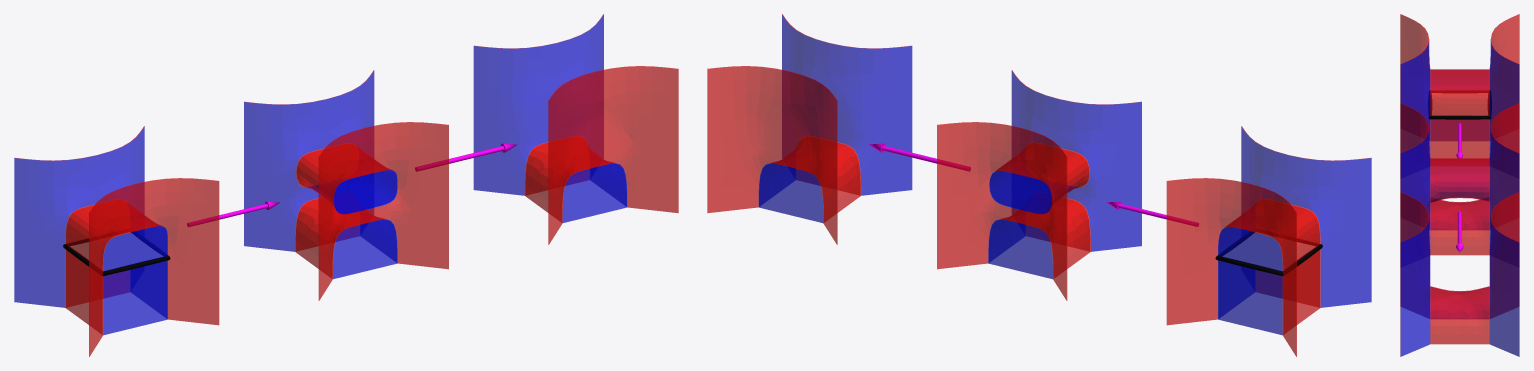
File: reduced4compression.glb
3 views of the same model, side by side, from view 1: azimuth 30°, elevation 25°; view 2: azimuth 150°, elevation 25°; view 3: azimuth 270°, elevation 25° (orthographic). The views are drawn at different scales.
Parts seen in each view (by area): view 1: Circle.002, Circle.001, Circle, merid, merid.001, NurbsPath.001; view 2: Circle.002, Circle.001, Circle, merid, merid.001, NurbsPath.001; view 3: Circle.001, Circle.002, Circle, merid, merid.001, NurbsPath.001, NurbsPath.002.
Part boxes in pixels (x1=…): Circle.002: x1=473, y1=14, x2=678, y2=244; Circle.001: x1=244, y1=70, x2=448, y2=300; Circle: x1=14, y1=126, x2=219, y2=356; merid: x1=70, y1=232, x2=162, y2=270; merid.001: x1=63, y1=231, x2=170, y2=275; NurbsPath.001: x1=415, y1=143, x2=517, y2=171; Circle.002: x1=707, y1=14, x2=912, y2=244; Circle.001: x1=937, y1=70, x2=1141, y2=300; Circle: x1=1166, y1=126, x2=1371, y2=356; merid: x1=1223, y1=232, x2=1315, y2=270; merid.001: x1=1215, y1=231, x2=1322, y2=276; NurbsPath.001: x1=868, y1=143, x2=970, y2=171; Circle.001: x1=1400, y1=103, x2=1519, y2=255; Circle.002: x1=1400, y1=192, x2=1519, y2=356; Circle: x1=1400, y1=14, x2=1519, y2=158; merid: x1=1432, y1=93, x2=1487, y2=115; merid.001: x1=1428, y1=90, x2=1491, y2=119; NurbsPath.001: x1=1456, y1=211, x2=1463, y2=252; NurbsPath.002: x1=1456, y1=123, x2=1463, y2=158.
Size of the model in its own units: 12.84 by 3 by 2.84.
